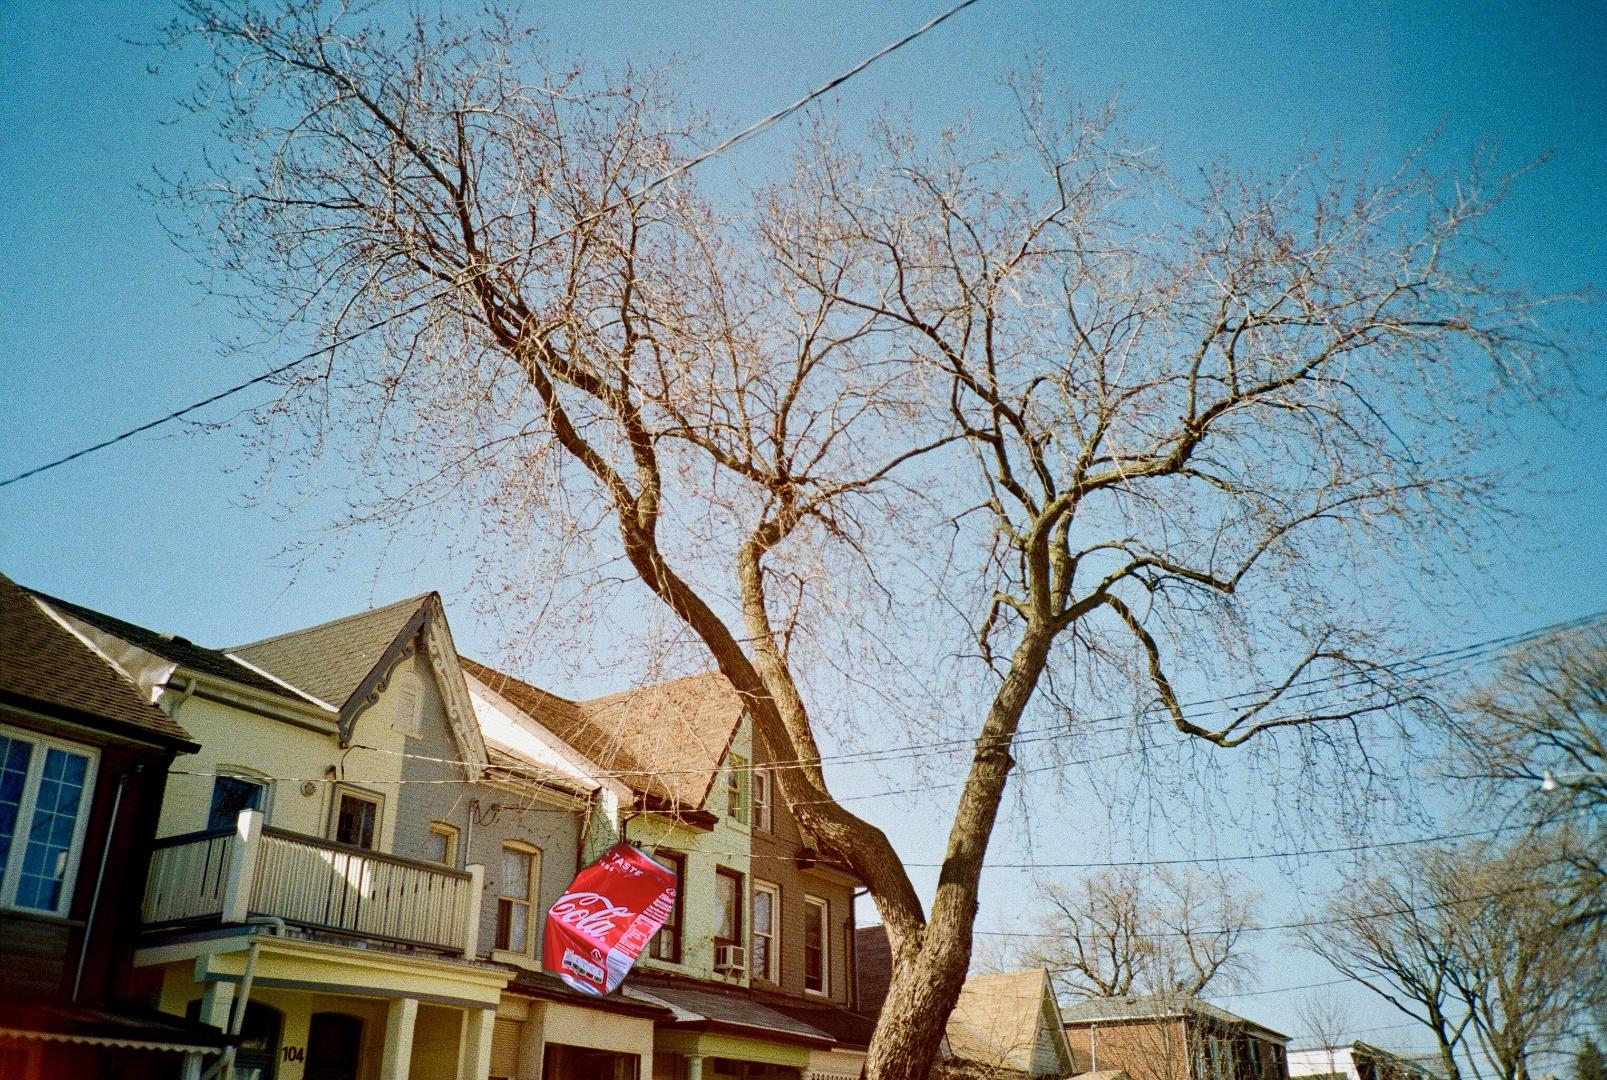metal-cans: (538, 836, 682, 1005)
